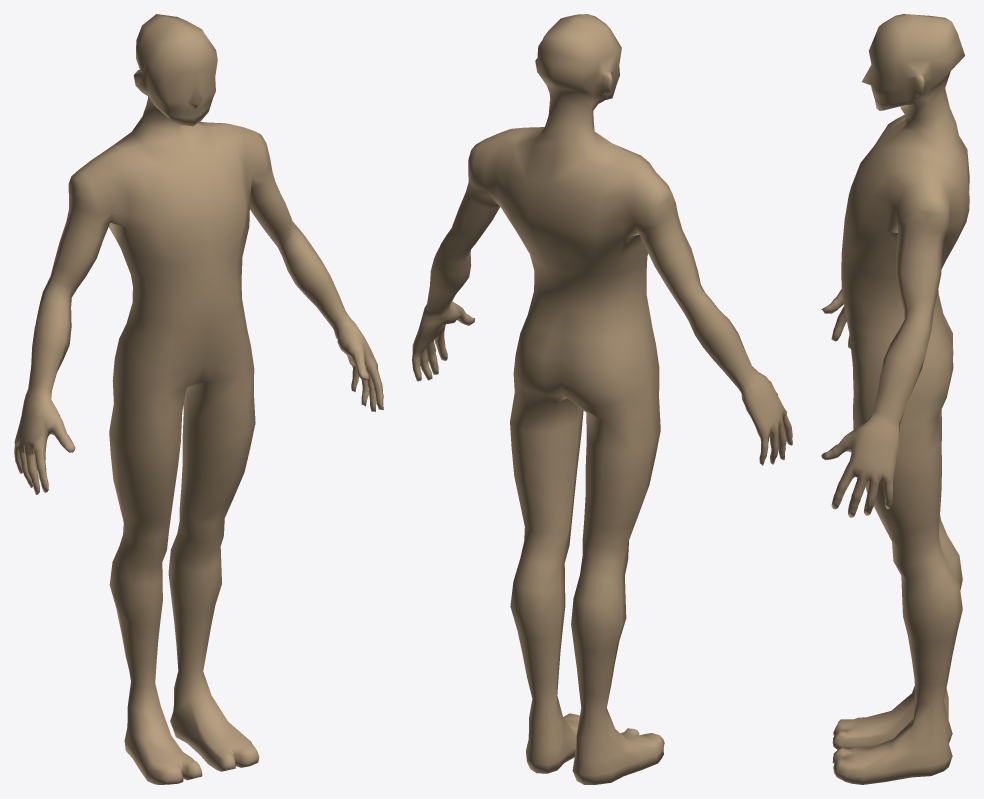
Rendered from human_body.glb.
3 views of the same model, side by side, from view 1: azimuth 30°, elevation 25°; view 2: azimuth 150°, elevation 25°; view 3: azimuth 270°, elevation 25° (orthographic). The views are drawn at different scales.
Visible parts, largest first — view 1: Corpo; view 2: Corpo; view 3: Corpo.
Boxes of the visible parts, bbox=[...] form: Corpo: bbox=[14, 14, 383, 784]; Corpo: bbox=[412, 14, 792, 784]; Corpo: bbox=[821, 14, 969, 784].
Bounding box in the file's own units: 0.9313 × 1.85 × 0.334.
